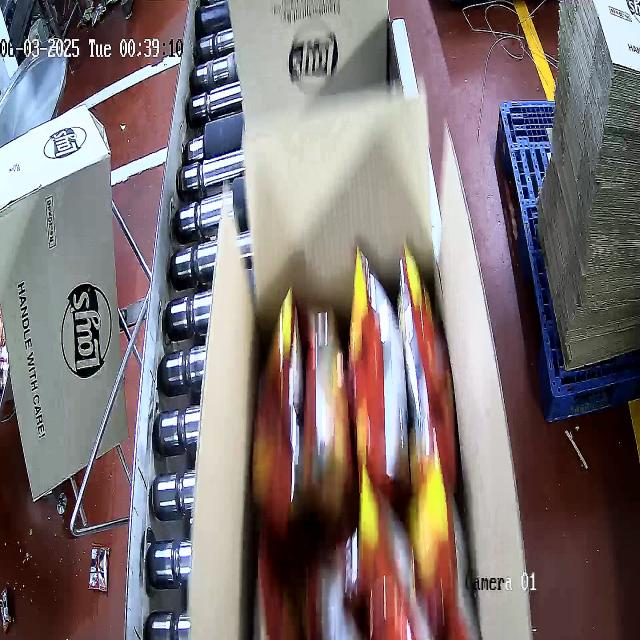MASALA: (250, 242, 470, 638)
